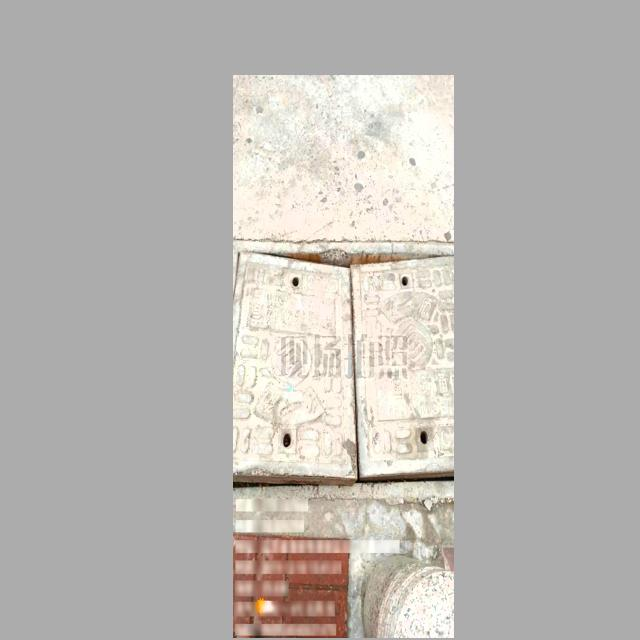uncovered: (233, 235, 454, 498)
